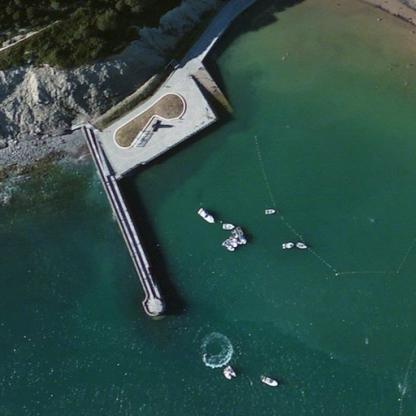ship: (239, 371, 260, 387), (204, 238, 219, 251), (223, 364, 235, 375), (225, 236, 237, 247), (295, 239, 307, 249), (204, 368, 214, 380), (246, 207, 259, 215), (204, 204, 217, 212), (281, 240, 292, 249), (229, 228, 237, 237), (36, 214, 40, 215), (240, 233, 240, 235)
